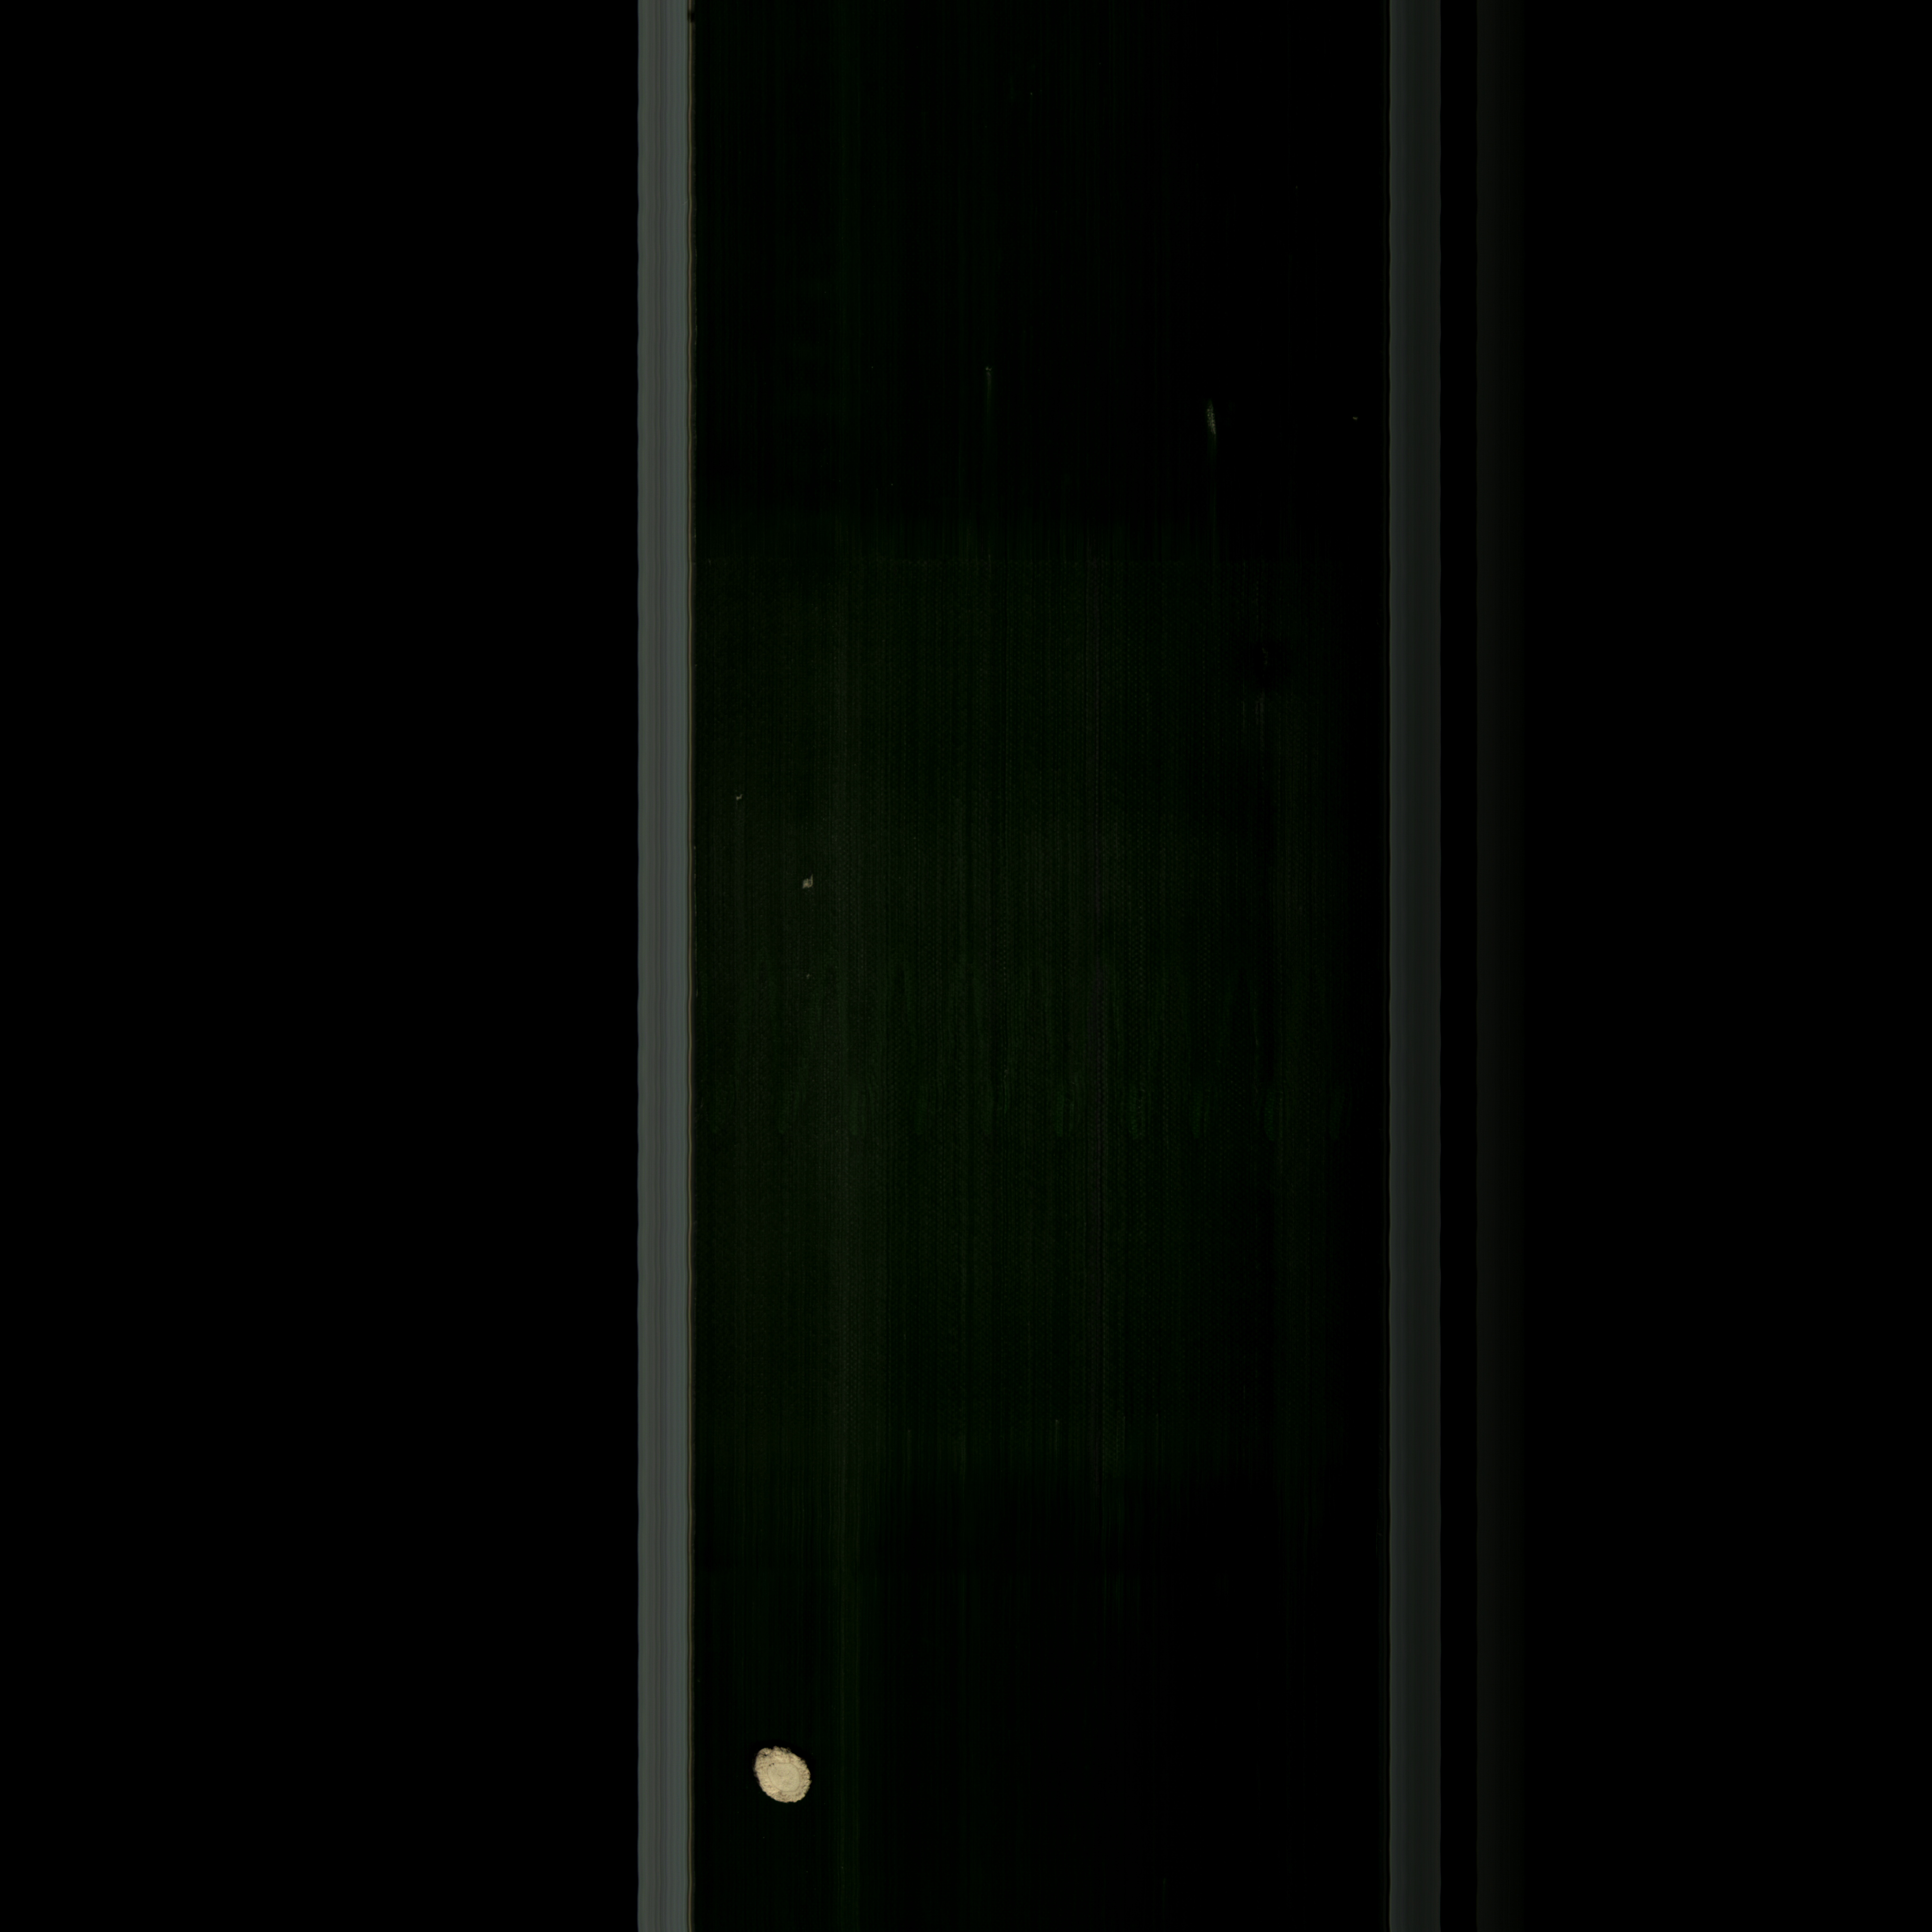hole: (743, 1741, 824, 1819)
